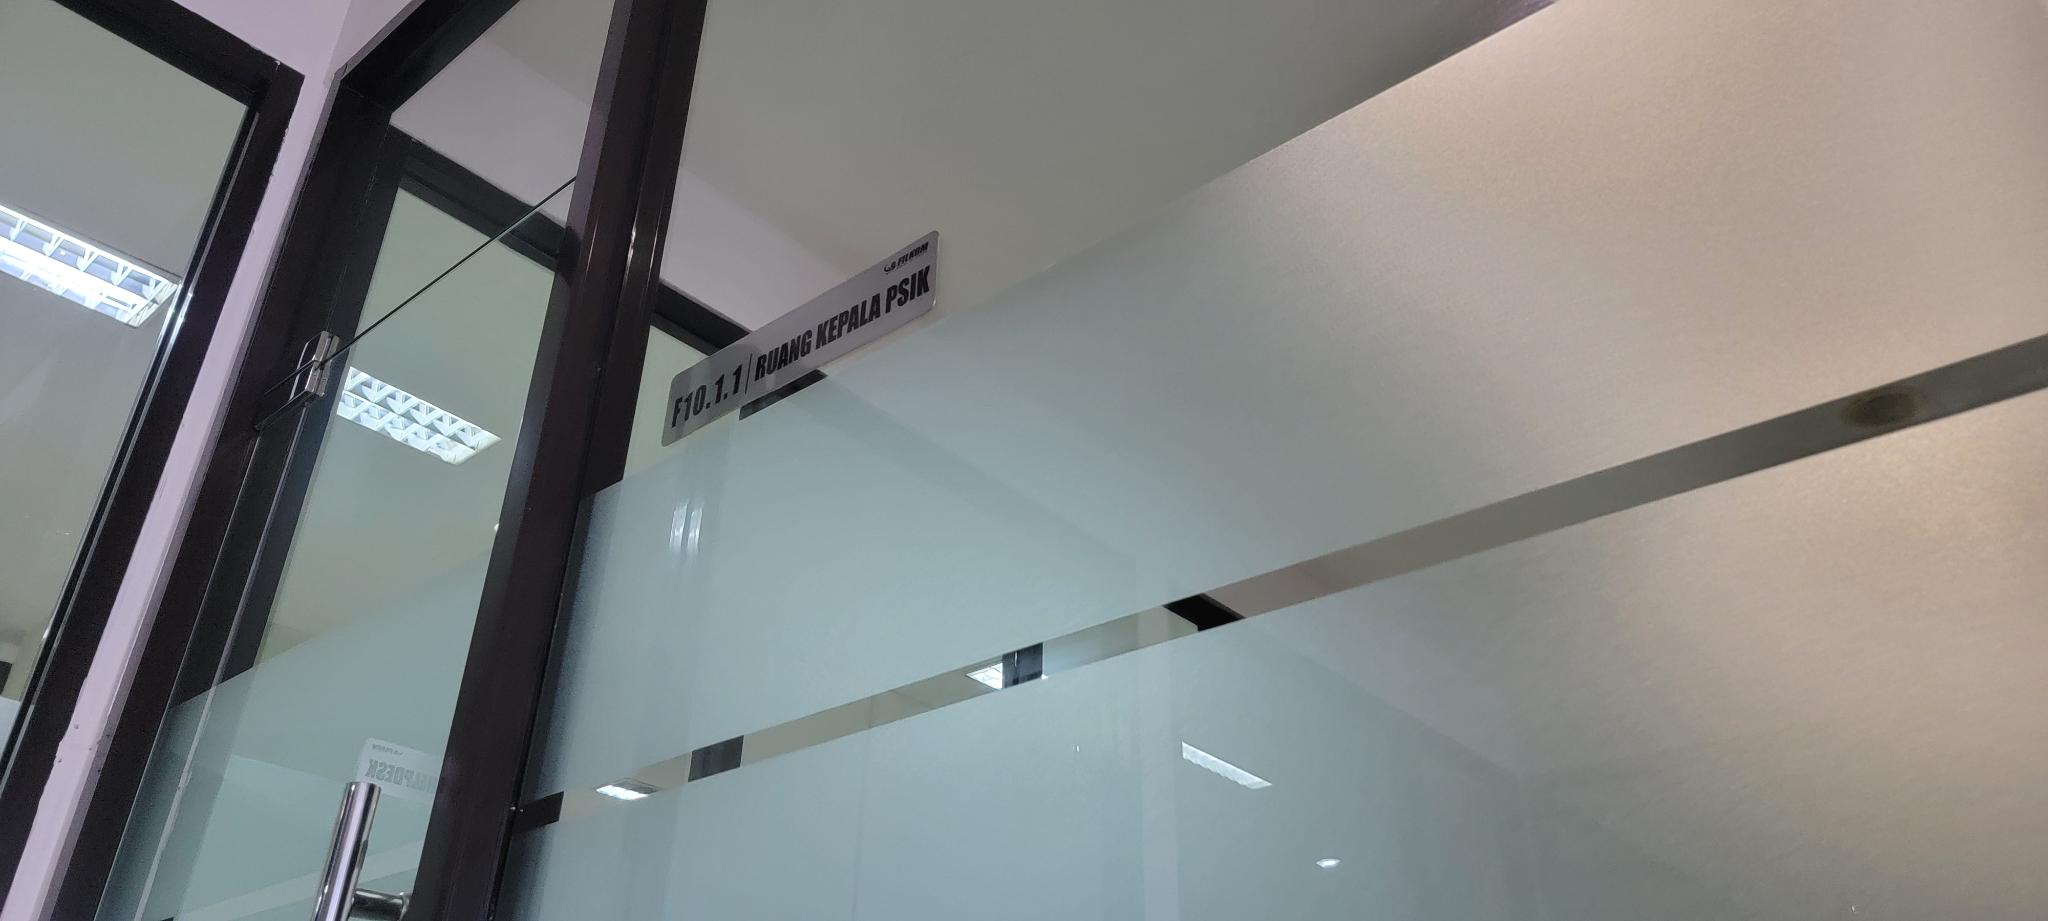plate: (660, 227, 940, 452)
